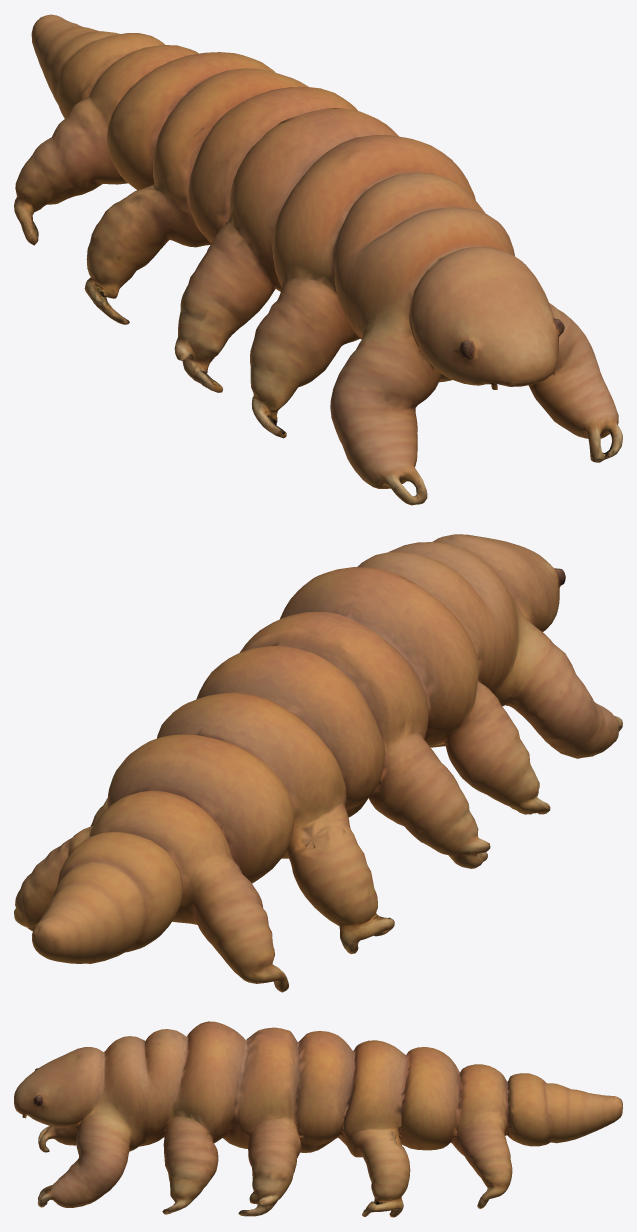
The picture shows the model from 3 angles, top to bottom: view 1: azimuth 30°, elevation 25°; view 2: azimuth 150°, elevation 25°; view 3: azimuth 270°, elevation 25°; orthographic projection. The views are drawn at different scales.
Visible parts, largest first — view 1: geometry_0; view 2: geometry_0; view 3: geometry_0.
Part boxes in pixels (box(x1,y1,x2,y2)): geometry_0: box(14, 14, 622, 505); geometry_0: box(14, 534, 622, 992); geometry_0: box(14, 1021, 622, 1217).
Bounding box in the file's own units: 0.0237 × 0.0177 × 0.0641.
1 material, 1 textured.
